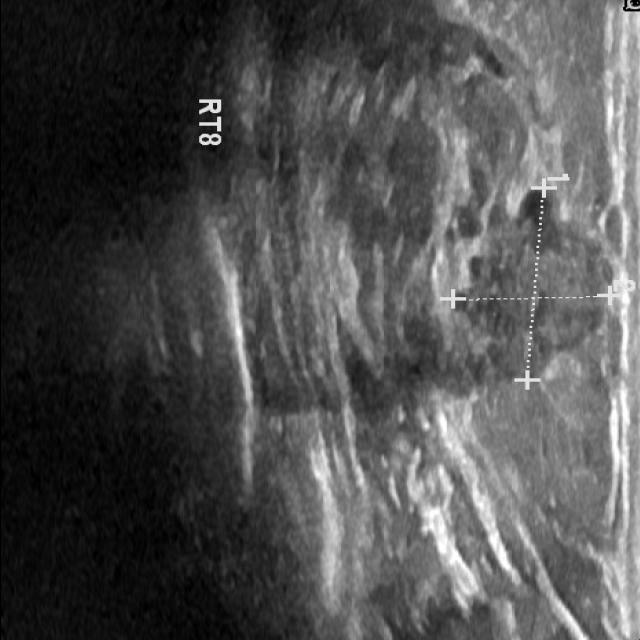Benign: (467, 214, 607, 372)
